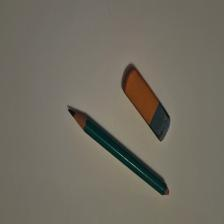eraser: (124, 68, 171, 143)
pencil: (69, 110, 170, 197)
